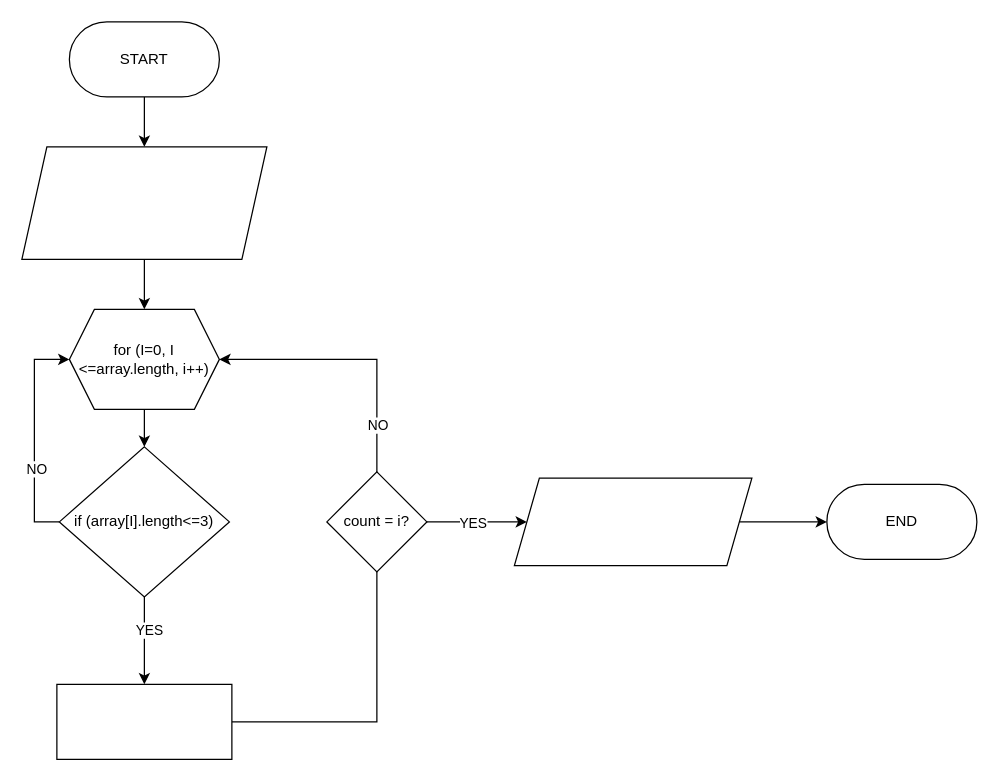
This 999x781 diagram has some shape labels left out. The shapes that lost their labels are listed below. From the top down, each one's centre as x and y in pixels, then its label:
At pixel 144 202: "array = Console.ReadLine array2 = array int count = 0".
At pixel 632 521: "Console.Write(array2)".
At pixel 144 721: "array2[count] = array[i] count++".
